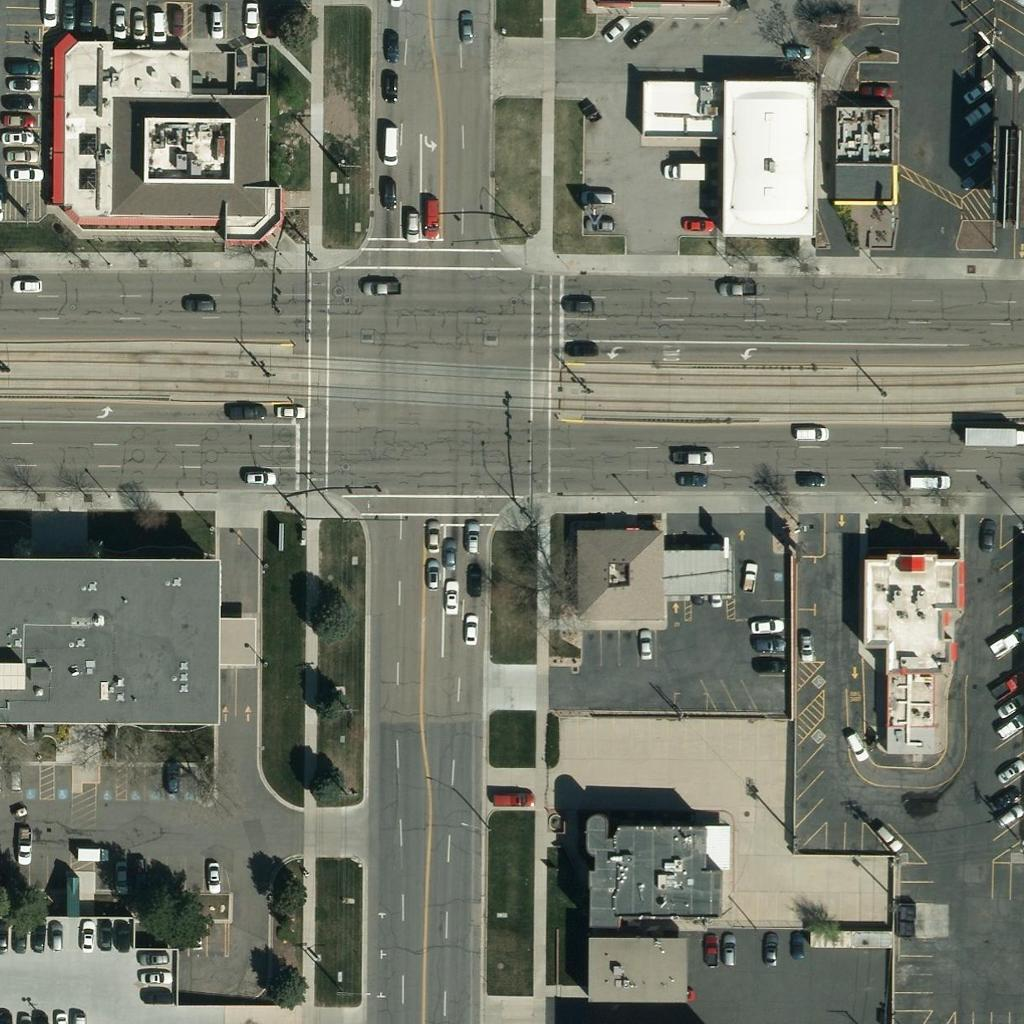car: (234, 2, 268, 36), (102, 3, 136, 37), (159, 4, 193, 38), (197, 4, 231, 38), (121, 8, 155, 42), (141, 9, 175, 43), (449, 9, 483, 43), (597, 11, 631, 45), (620, 18, 654, 52), (373, 31, 407, 65), (779, 34, 813, 68), (5, 50, 39, 84), (373, 64, 407, 98), (6, 65, 40, 99), (857, 71, 891, 105), (956, 75, 990, 109), (959, 95, 993, 129), (1, 101, 35, 135), (372, 130, 406, 164), (958, 136, 992, 170), (1, 137, 35, 171), (7, 157, 41, 191), (370, 174, 404, 208), (578, 180, 612, 214), (413, 195, 447, 229), (395, 203, 429, 237), (676, 206, 710, 240), (583, 208, 617, 242), (11, 269, 45, 303), (717, 269, 751, 303), (361, 270, 395, 304), (186, 287, 220, 321), (560, 288, 594, 322), (565, 331, 599, 365), (230, 394, 264, 428), (270, 394, 304, 428), (791, 415, 825, 449), (675, 440, 709, 474), (240, 460, 274, 494), (674, 460, 708, 494), (790, 461, 824, 495), (912, 464, 946, 498), (417, 519, 451, 553), (454, 521, 488, 555), (972, 521, 1006, 555), (432, 535, 466, 569), (732, 557, 766, 591), (413, 558, 447, 592), (458, 562, 492, 596), (697, 577, 731, 611), (435, 580, 469, 614), (745, 608, 779, 642), (453, 614, 487, 648), (749, 624, 783, 658), (787, 625, 821, 659), (629, 628, 663, 662), (751, 648, 785, 682), (839, 727, 873, 761), (155, 759, 189, 793), (985, 781, 1019, 815), (491, 784, 525, 818), (868, 819, 902, 853), (6, 830, 40, 864), (75, 837, 109, 871), (195, 857, 229, 891), (104, 858, 138, 892), (21, 917, 55, 951), (88, 917, 122, 951), (104, 918, 138, 952), (3, 920, 37, 954), (38, 921, 72, 955), (780, 928, 814, 962), (694, 934, 728, 968), (751, 934, 785, 968), (710, 935, 744, 969), (137, 940, 171, 974), (137, 960, 171, 994), (140, 979, 174, 1013), (68, 0, 102, 33), (0, 84, 33, 118), (0, 119, 33, 153), (991, 709, 1024, 743), (991, 799, 1024, 833), (992, 666, 1024, 700), (0, 758, 32, 792), (50, 0, 84, 31), (993, 687, 1024, 721), (993, 755, 1024, 789), (994, 620, 1024, 654), (31, 0, 65, 25), (0, 919, 16, 953)
